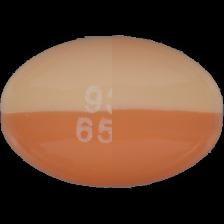54868-4584: (0, 0, 224, 224)
